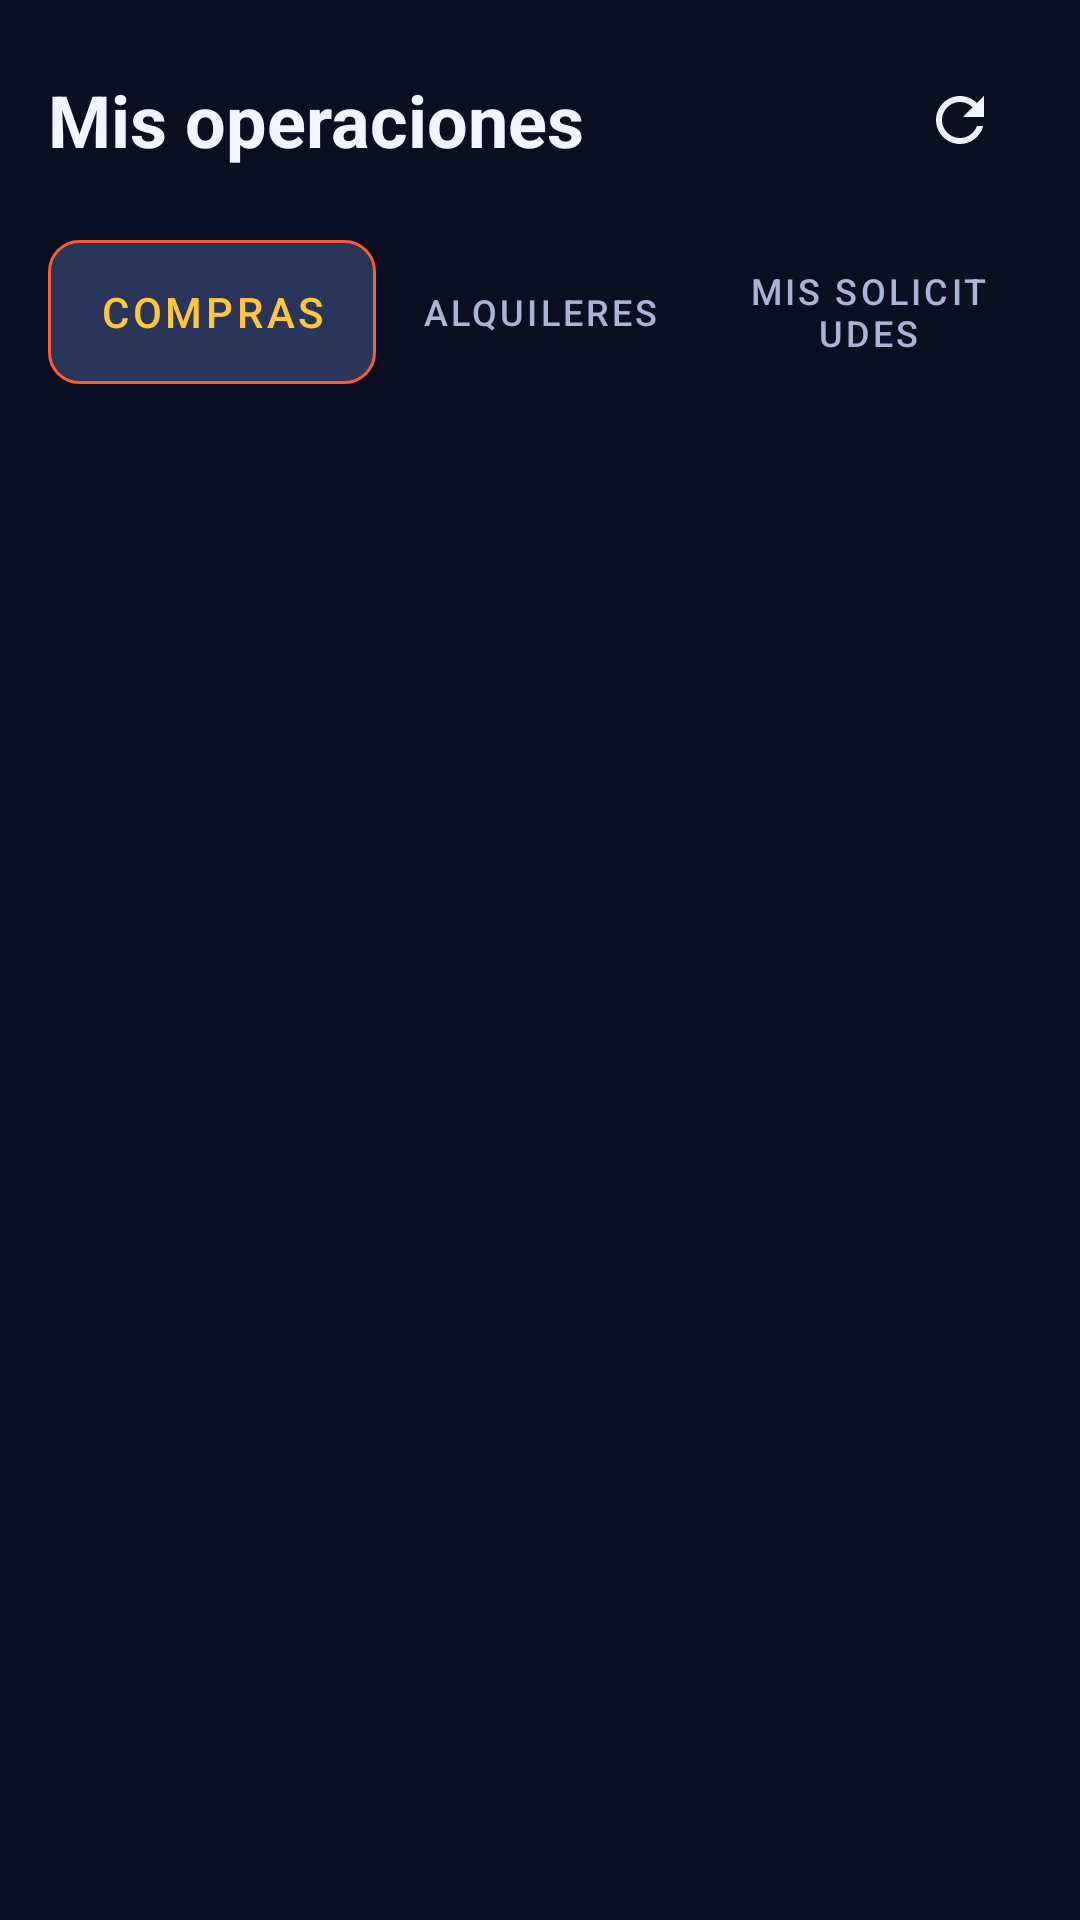

Named icons in this screenshot (1080w x 1920h) and their bounding boxes, [left=x1, top=y1, right=x2, bottom=y2]:
Recargar: [left=936, top=96, right=984, bottom=144]
